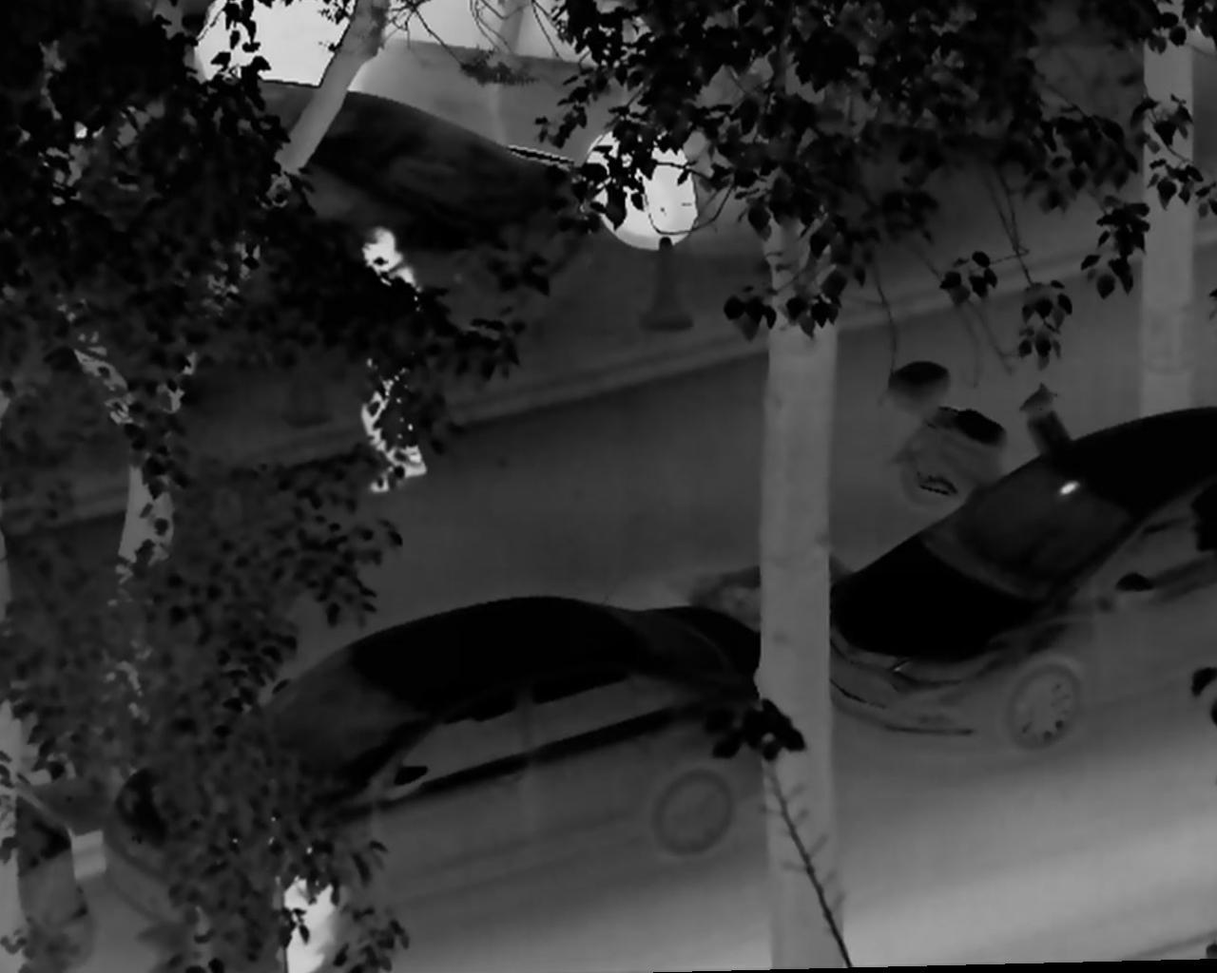person: (344, 227, 429, 497), (251, 815, 362, 973)
